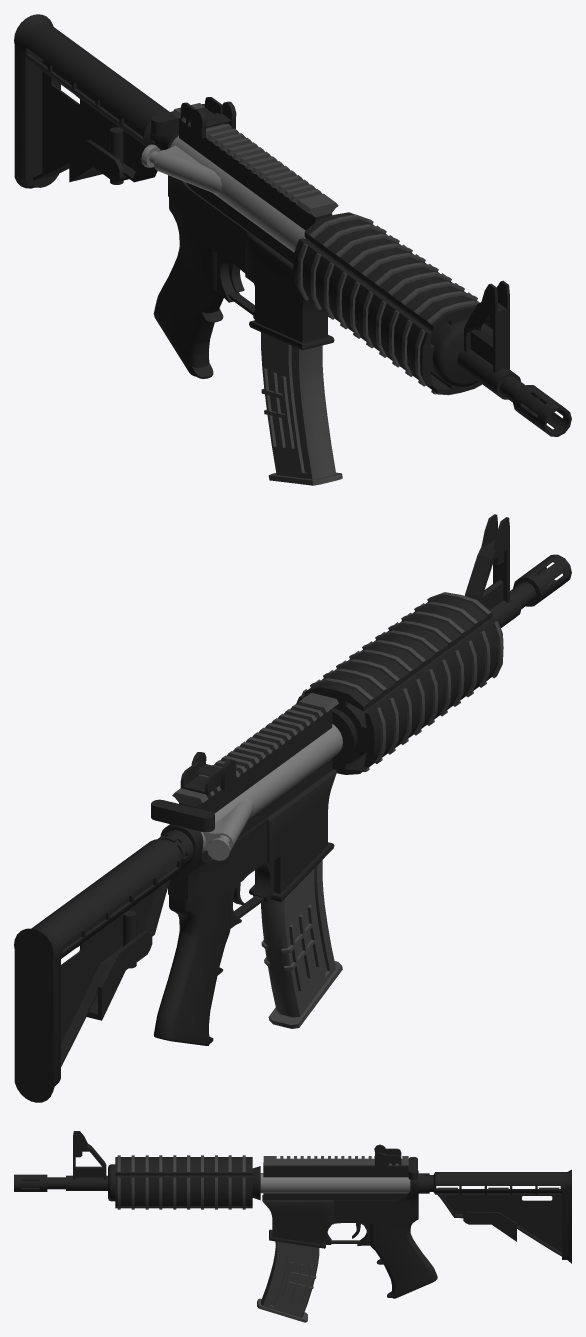
The model's file is Rifle.fbx.
3 views of the same model, one above another, from view 1: azimuth 30°, elevation 25°; view 2: azimuth 150°, elevation 25°; view 3: azimuth 270°, elevation 25° (orthographic). The views are drawn at different scales.
Visible parts, largest first — view 1: Rifle; view 2: Rifle; view 3: Rifle.
Boxes of the visible parts, box(x1,y1,x2,y2) form: Rifle: box(14, 14, 571, 485); Rifle: box(14, 514, 571, 1102); Rifle: box(14, 1131, 571, 1322).
Size of the model in its own units: 0.1606 by 0.616 by 1.67.
